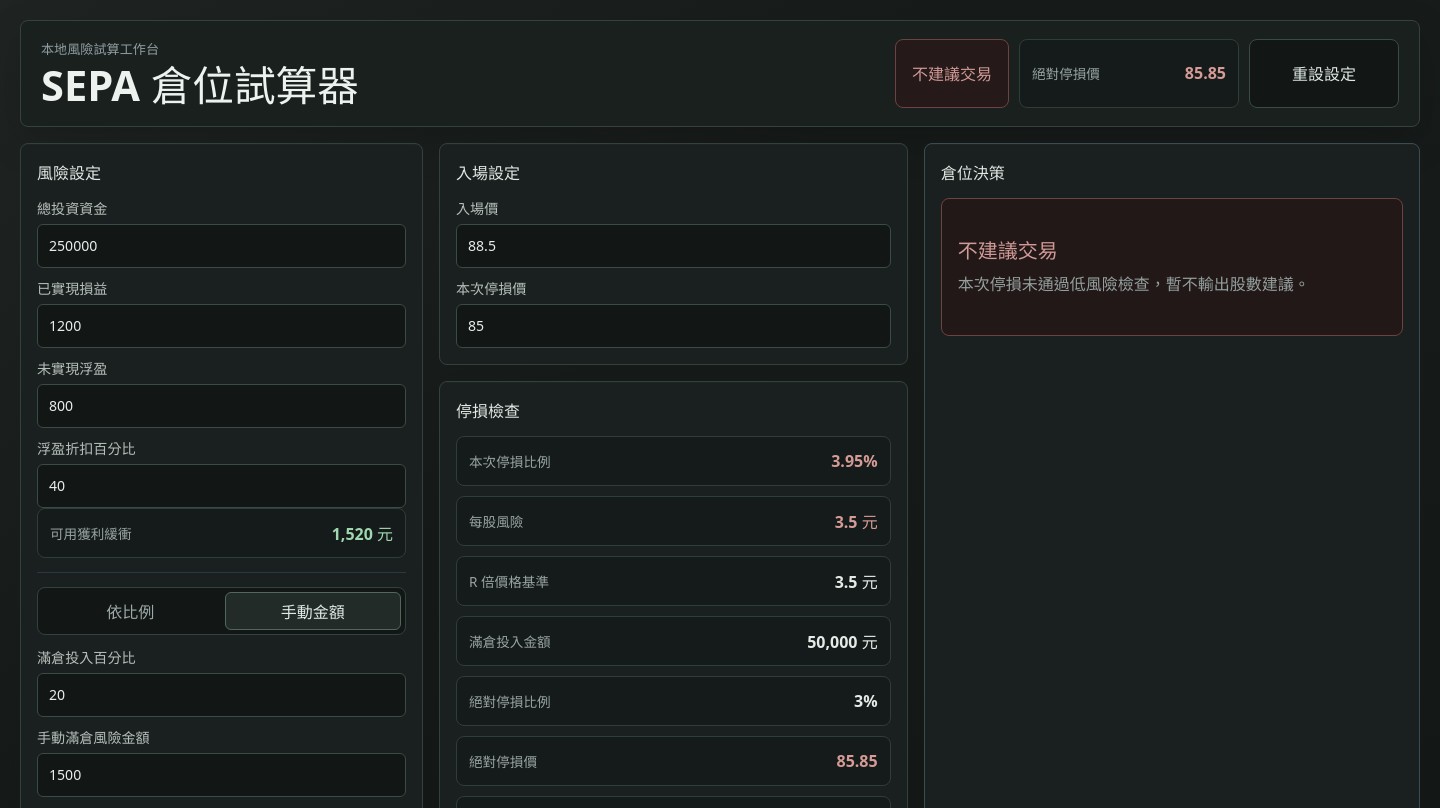
App › 點擊重設設定後回到預設值並更新 localStorage
Step 1. Click the button "重設設定" → (1324, 73), box [1249, 39, 1399, 108]
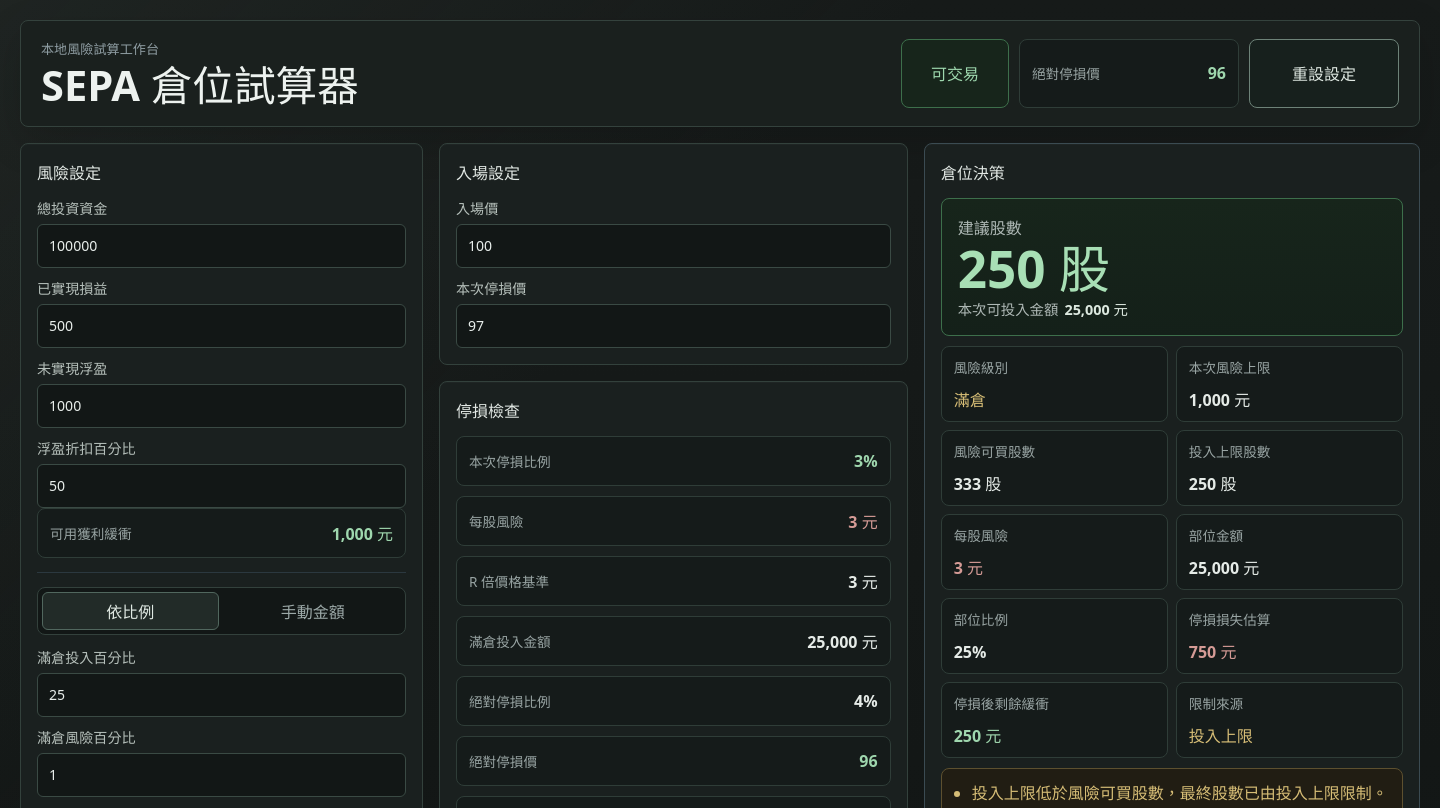
Expected: the number field labelled "總投資資金" holds "100000", [37, 224, 406, 268]
Expected: the number field labelled "入場價" holds "100", [456, 224, 891, 268]
Expected: the number field labelled "本次停損價" holds "97", [456, 304, 891, 348]
